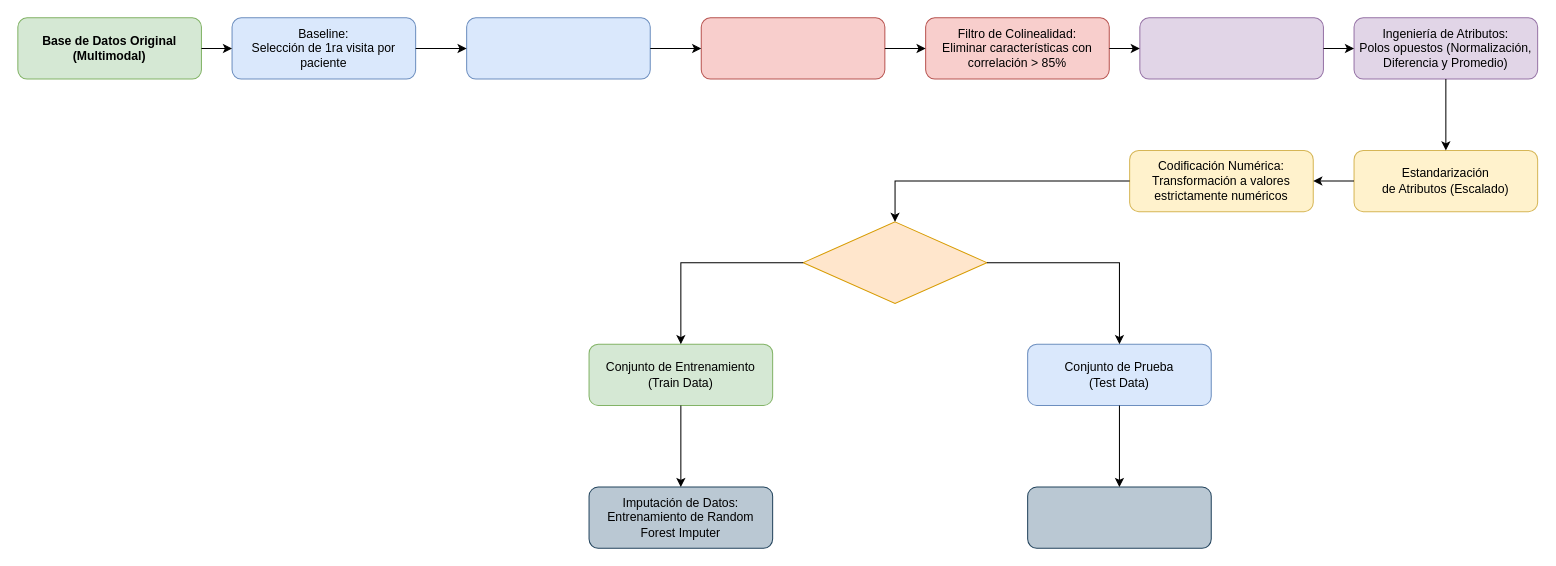
The diagram is 1556 pixels wide and 566 high, and some of its shapes have lost their labels. The box of each missing label's shape, as (x1, y1, x2, y2) in pixels:
División de Datos (Train / Test Split): (802, 221, 987, 303)
Extracción de Datos: Características de Neuroimagen: (1139, 17, 1323, 79)
Filtro de Calidad: Eliminar características con > 75% nulos: (700, 17, 885, 79)
Formateo de Nulos: Estandarización de vacíos a NaN: (466, 17, 650, 79)
Imputación de Datos: Aplicación del modelo RF sobre Test: (1027, 486, 1211, 548)
